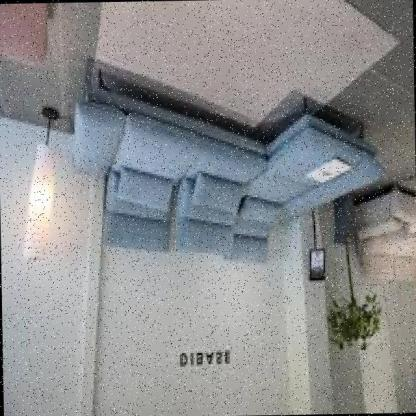Sofa: (57, 20, 393, 286)
